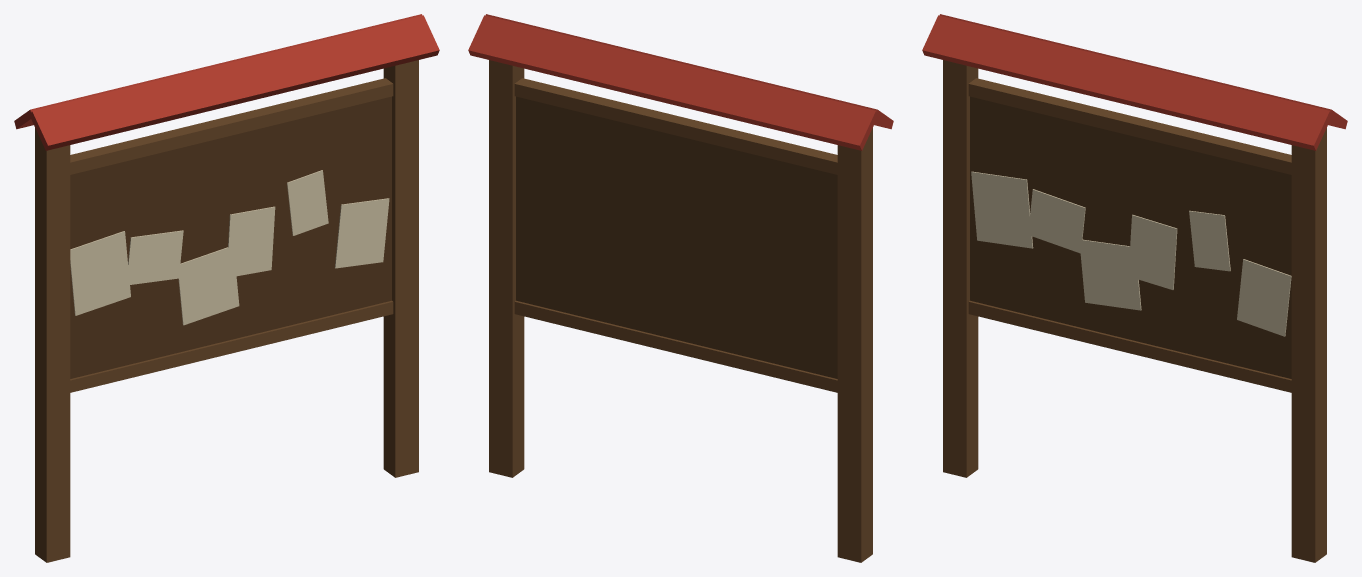
File: notice-board-a.glb
3 renders of one model, left to right at view 1: azimuth 30°, elevation 25°; view 2: azimuth 150°, elevation 25°; view 3: azimuth 330°, elevation 25°, orthographic.
Visible parts, largest first — view 1: Body_WoodDark, Body_Wood, Body_Second, Body_Paper; view 2: Body_WoodDark, Body_Wood, Body_Second; view 3: Body_WoodDark, Body_Wood, Body_Second, Body_Paper.
Boxes of the visible parts, x1,y1,x2,y2 form: Body_WoodDark: (70, 96, 391, 378); Body_Wood: (35, 60, 418, 562); Body_Second: (14, 14, 439, 150); Body_Paper: (70, 170, 389, 325); Body_WoodDark: (516, 96, 837, 378); Body_Wood: (489, 60, 872, 562); Body_Second: (468, 14, 893, 150); Body_WoodDark: (970, 96, 1291, 378); Body_Wood: (943, 60, 1326, 562); Body_Second: (922, 14, 1347, 150); Body_Paper: (971, 171, 1291, 336).
Size of the model in its own units: 2 by 2.2 by 0.3.
